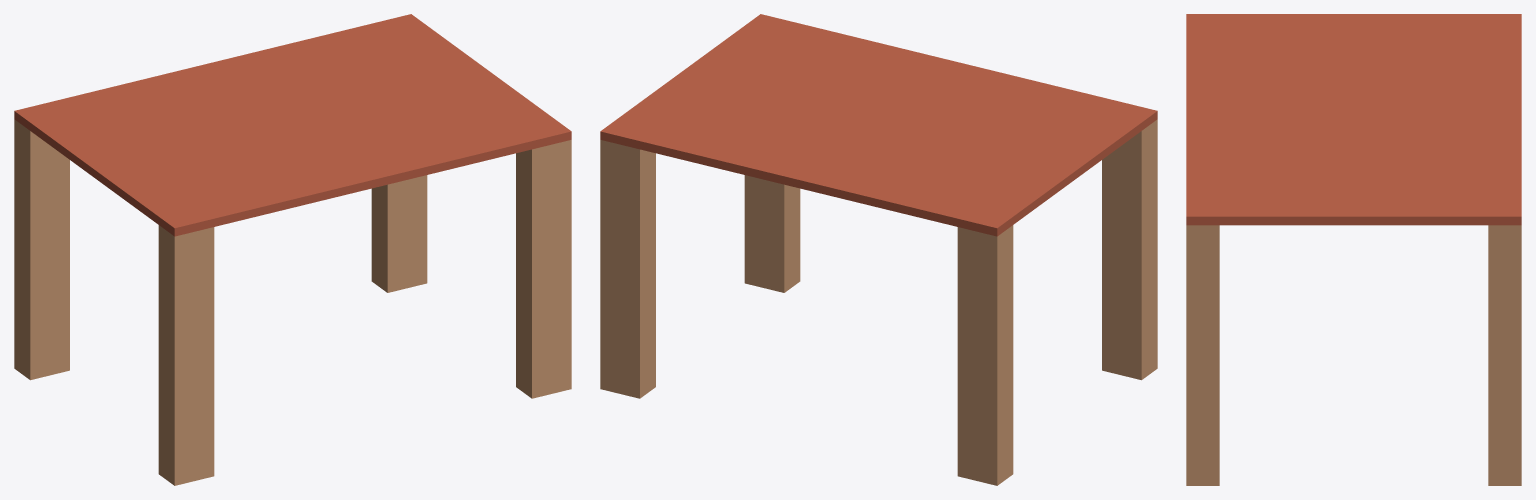
Rendered from table_child.fbx.
3 renders of one model, left to right at view 1: azimuth 30°, elevation 25°; view 2: azimuth 150°, elevation 25°; view 3: azimuth 270°, elevation 25°, orthographic. The views are drawn at different scales.
Visible parts, largest first — view 1: table_child; view 2: table_child; view 3: table_child.
Part boxes in pixels (box(x1,y1,x2,y2)): table_child: box(14, 14, 571, 485); table_child: box(600, 14, 1157, 485); table_child: box(1186, 14, 1521, 485).
Bounding box in the file's own units: 100 × 62.02 × 70.
